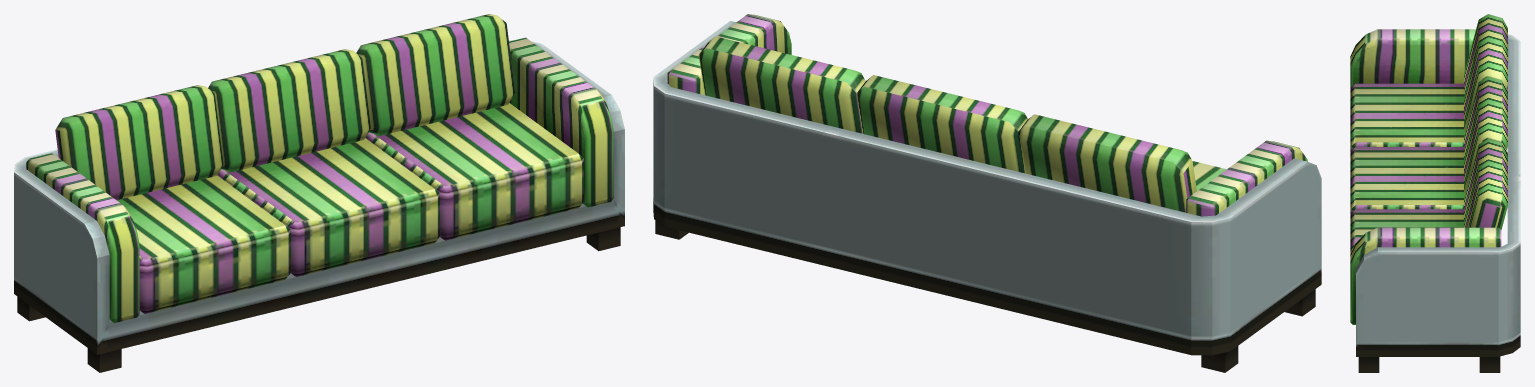
The model's file is furni_0200611_01.FBX.
The picture shows the model from 3 angles, left to right: view 1: azimuth 30°, elevation 25°; view 2: azimuth 150°, elevation 25°; view 3: azimuth 270°, elevation 25°; orthographic projection. The views are drawn at different scales.
Parts seen in each view (by area): view 1: furni_0200611_01; view 2: furni_0200611_01; view 3: furni_0200611_01.
Part boxes in pixels (left/top/right/bottom): furni_0200611_01: left=14, top=14, right=624, bottom=372; furni_0200611_01: left=653, top=14, right=1321, bottom=372; furni_0200611_01: left=1350, top=14, right=1520, bottom=372.
Size of the model in its own units: 238 by 80.62 by 77.55.
1 material, 1 textured.
